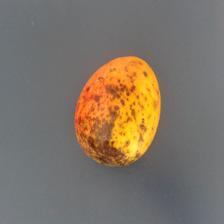Mango Semirotten: (71, 51, 166, 172)
